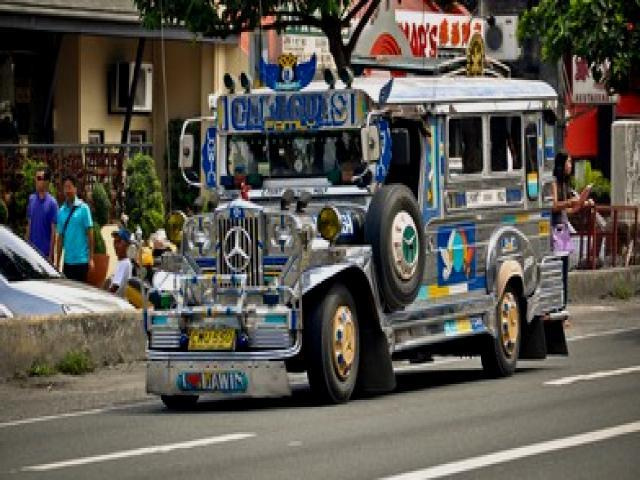jeepney: (140, 42, 576, 413)
